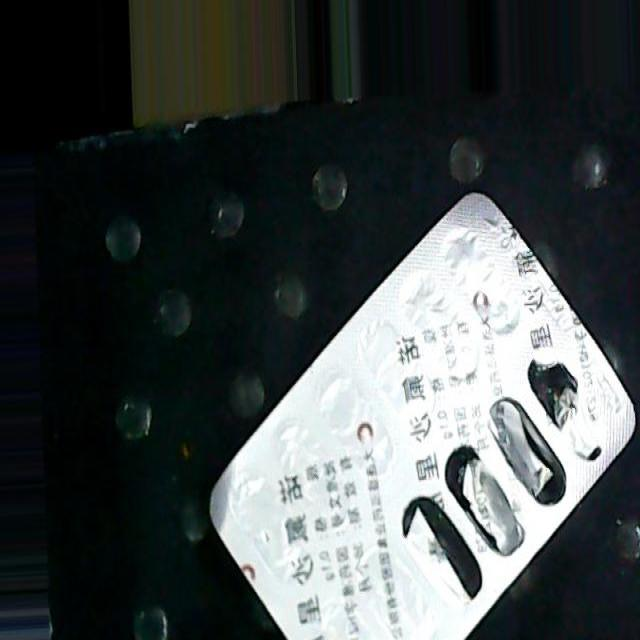-Hazardous waste - medicine inner packaging-: (206, 191, 636, 640)
